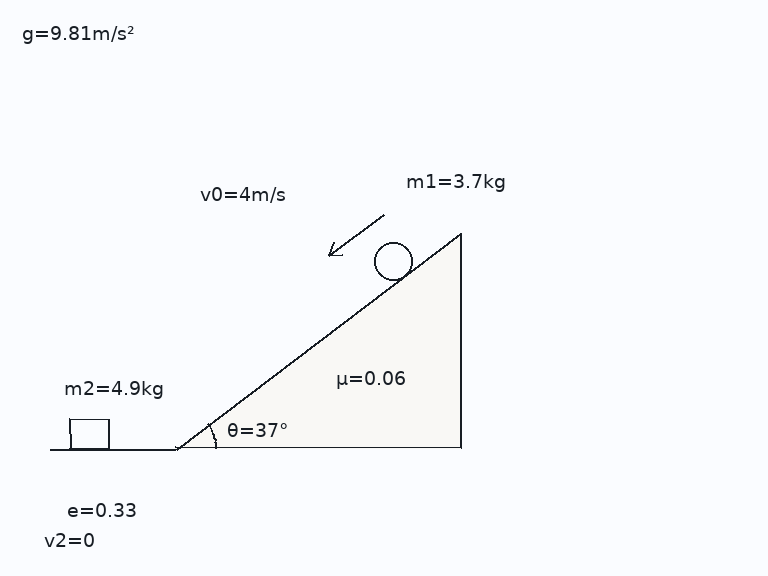ball: (372, 240, 414, 282)
block: (67, 417, 111, 450)
ramp: (174, 231, 463, 450)
